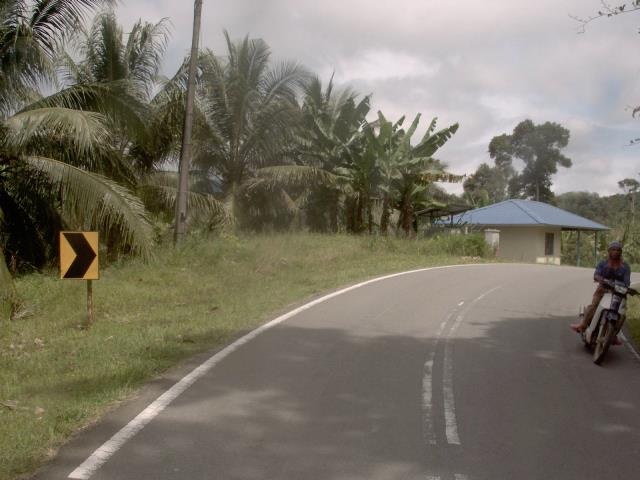traffic_sign: (50, 222, 109, 289)
